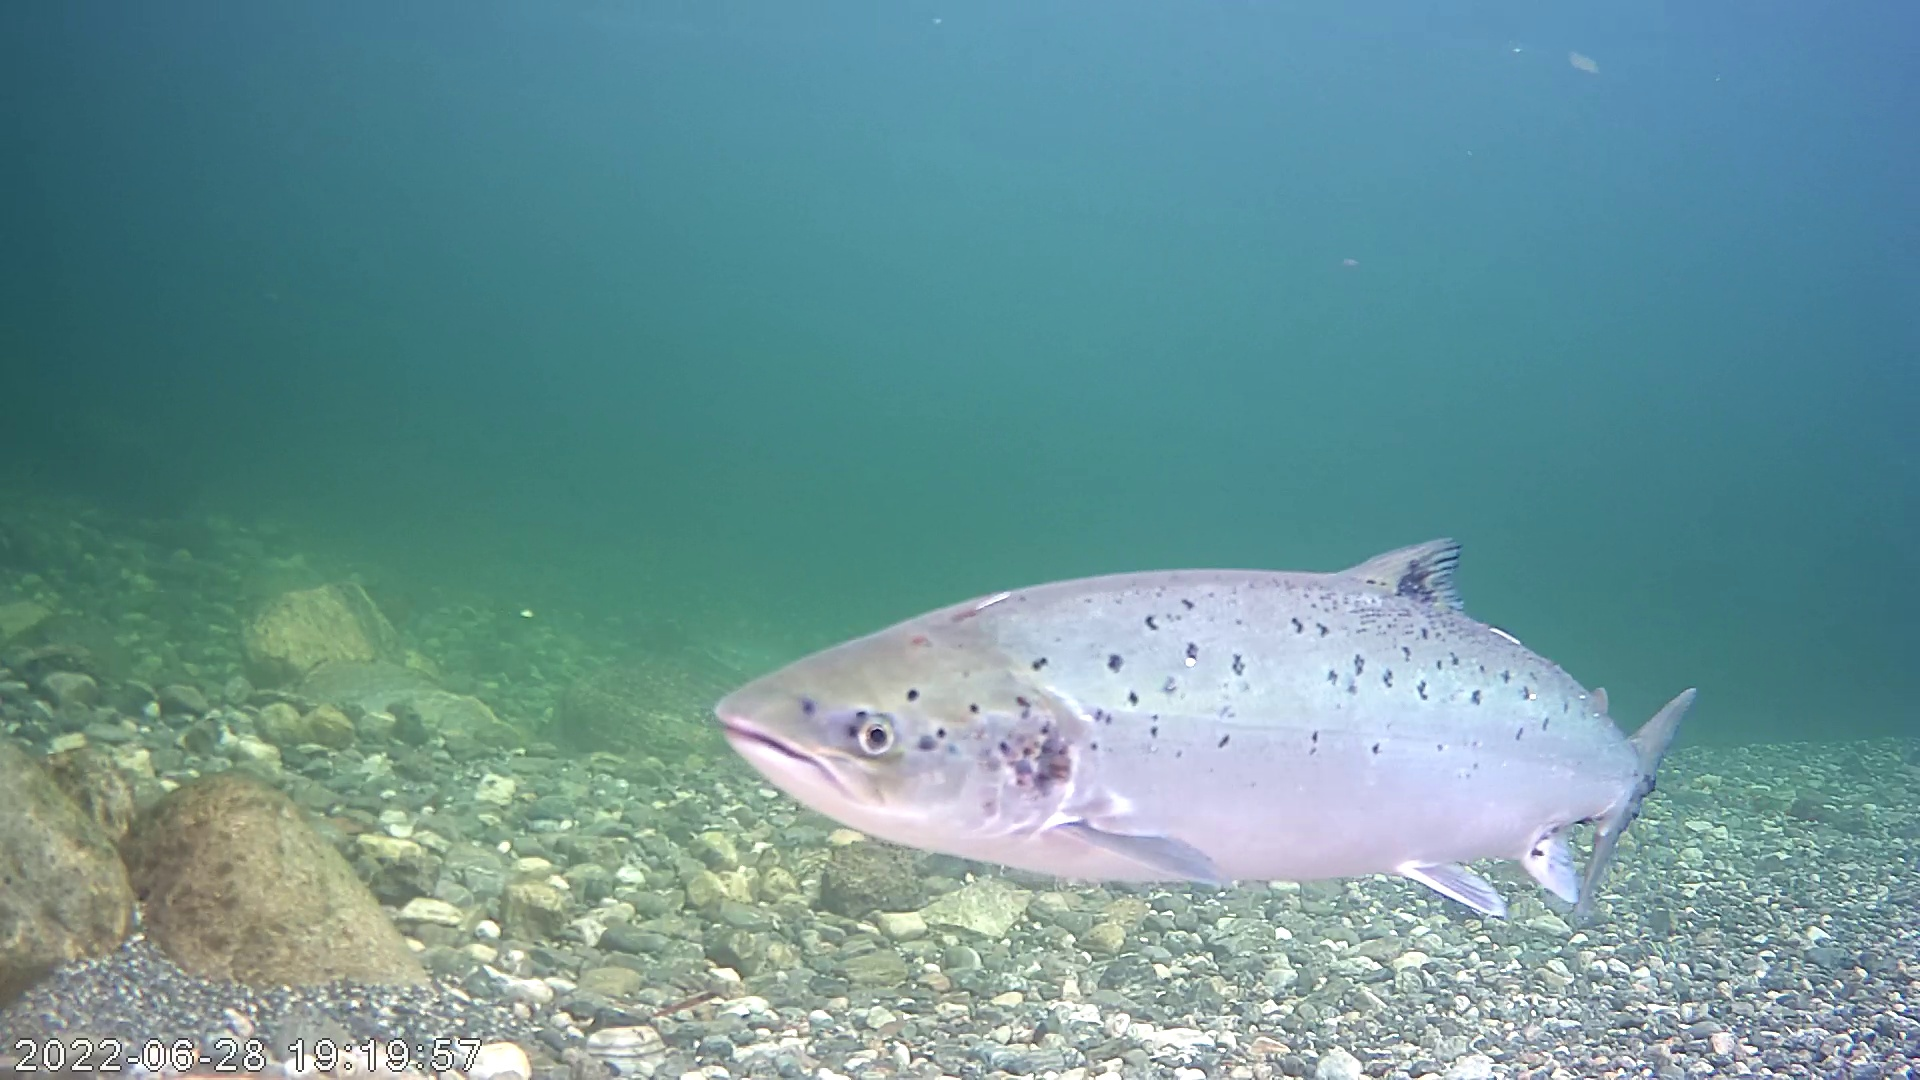salmon: (683, 462, 1687, 891)
